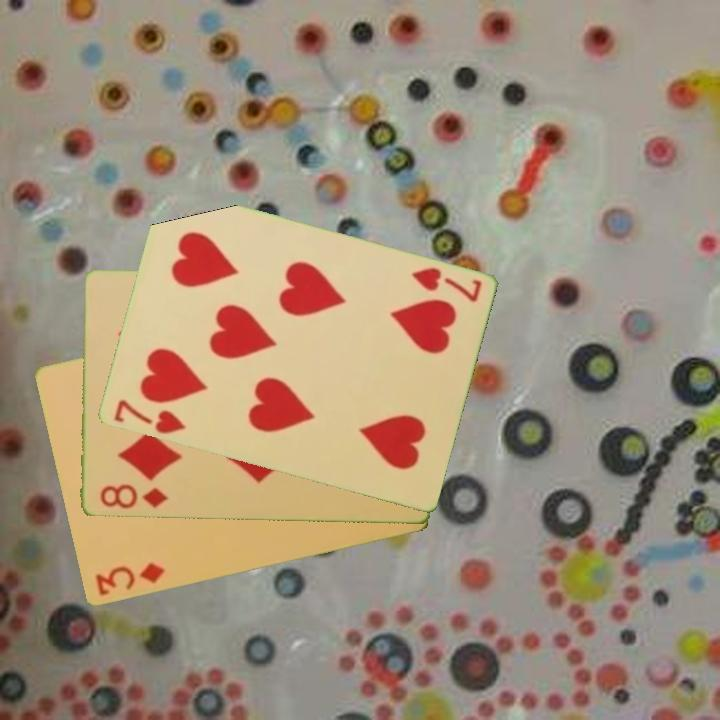3d: (91, 559, 168, 599)
7h: (110, 396, 189, 437), (407, 264, 484, 306)
8d: (96, 481, 171, 512)
